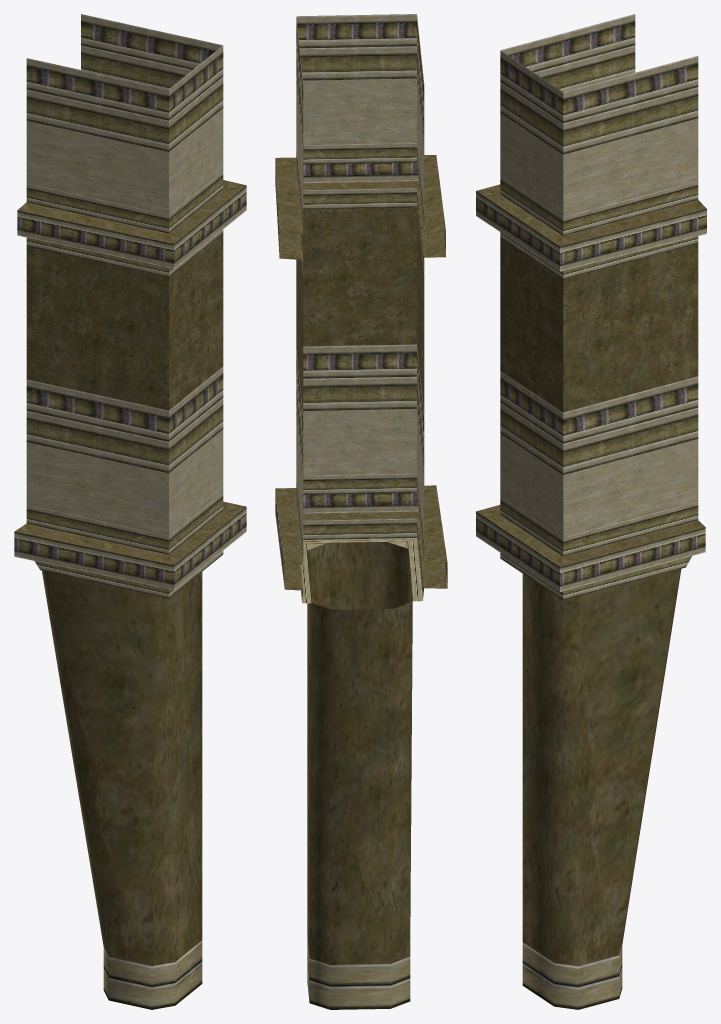
Rendered from CH09_SMAUG_PLAYSURFACE_LAIR63.fbx.
3 renders of one model, left to right at view 1: azimuth 30°, elevation 25°; view 2: azimuth 150°, elevation 25°; view 3: azimuth 270°, elevation 25°, orthographic. The views are drawn at different scales.
Parts seen in each view (by area): view 1: CH09_SMAUG_PLAYSURFACE_LAIR63; view 2: CH09_SMAUG_PLAYSURFACE_LAIR63; view 3: CH09_SMAUG_PLAYSURFACE_LAIR63.
Boxes of the visible parts, <box> form: CH09_SMAUG_PLAYSURFACE_LAIR63: <box>14,14,246,1009</box>; CH09_SMAUG_PLAYSURFACE_LAIR63: <box>275,14,447,1009</box>; CH09_SMAUG_PLAYSURFACE_LAIR63: <box>476,14,706,1009</box>.
Bounding box in the file's own units: 46468 × 206422 × 46587.
5 materials, 5 textured.
